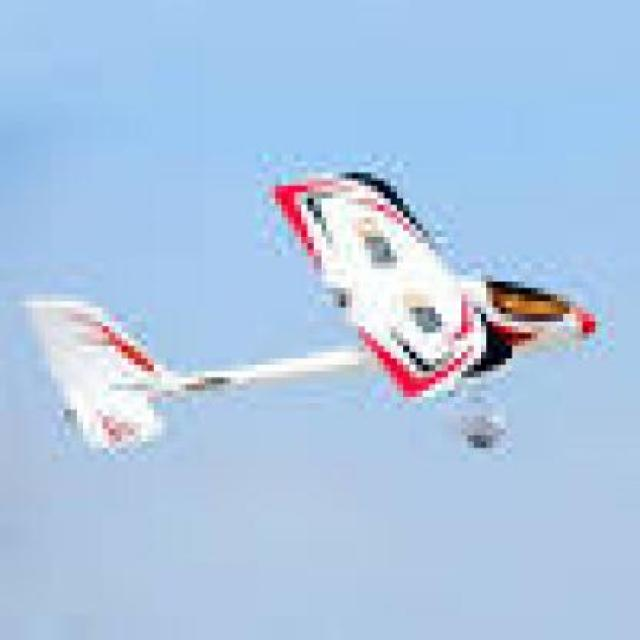iha: (25, 163, 603, 460)
